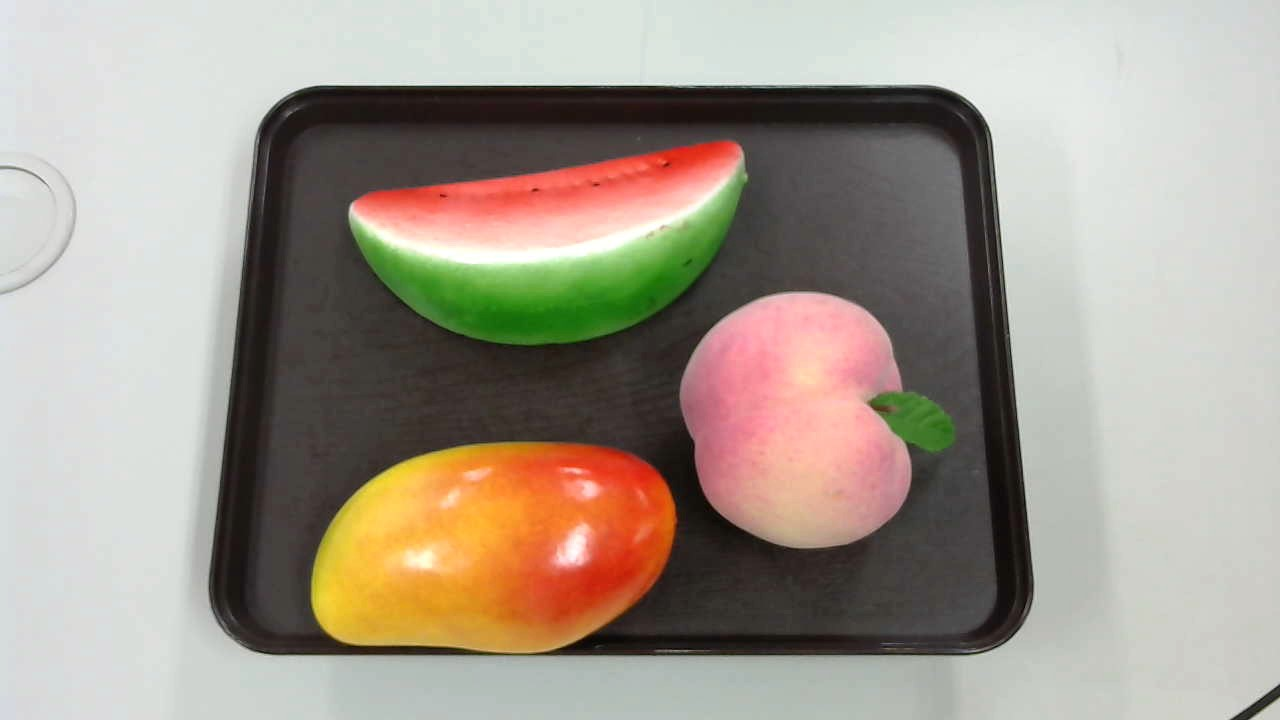peach: (677, 286, 959, 549)
red mango: (310, 441, 677, 655)
water melon: (345, 139, 751, 341)
